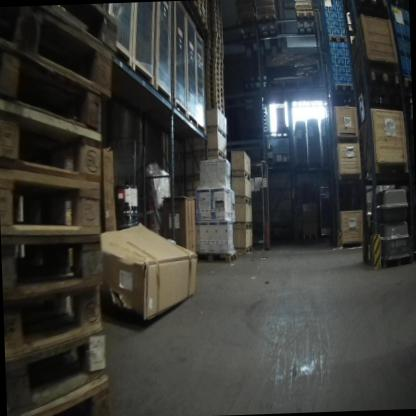pallet: (0, 35, 104, 141), (0, 4, 113, 101), (0, 95, 103, 193), (4, 325, 108, 416), (3, 276, 107, 365), (1, 231, 102, 301), (0, 172, 103, 239), (6, 370, 113, 416), (38, 6, 118, 56), (335, 134, 362, 182), (196, 249, 237, 265), (374, 161, 409, 174), (381, 255, 415, 268), (371, 70, 401, 84), (205, 58, 224, 75), (205, 53, 224, 70), (205, 47, 224, 64), (207, 125, 227, 141), (204, 42, 224, 58), (204, 37, 224, 53), (204, 32, 223, 48), (205, 64, 223, 80), (206, 79, 224, 94), (206, 75, 224, 90), (231, 170, 251, 183), (207, 103, 225, 117), (207, 148, 227, 160), (207, 92, 224, 106), (206, 70, 223, 84), (208, 28, 223, 43), (208, 23, 223, 38), (207, 86, 224, 99), (360, 0, 387, 8), (208, 18, 223, 31), (235, 195, 252, 206), (329, 34, 347, 44), (233, 221, 253, 230), (207, 12, 222, 24), (207, 4, 222, 16), (207, 9, 222, 20), (296, 9, 314, 18), (333, 84, 353, 92), (200, 10, 208, 30), (207, 102, 224, 111), (207, 97, 224, 105), (259, 12, 276, 20), (234, 247, 252, 254), (200, 5, 207, 22), (194, 1, 200, 14), (200, 0, 207, 11)
small_load_carrier: (332, 65, 353, 85), (341, 65, 352, 76), (333, 74, 343, 85), (329, 40, 339, 51), (341, 57, 351, 67), (330, 50, 340, 59), (340, 49, 349, 59), (327, 24, 337, 33), (326, 17, 336, 26), (339, 42, 348, 51), (335, 18, 344, 27), (325, 9, 334, 18), (334, 10, 343, 19), (324, 2, 333, 11), (336, 26, 346, 34), (332, 58, 341, 66), (333, 3, 342, 11)
